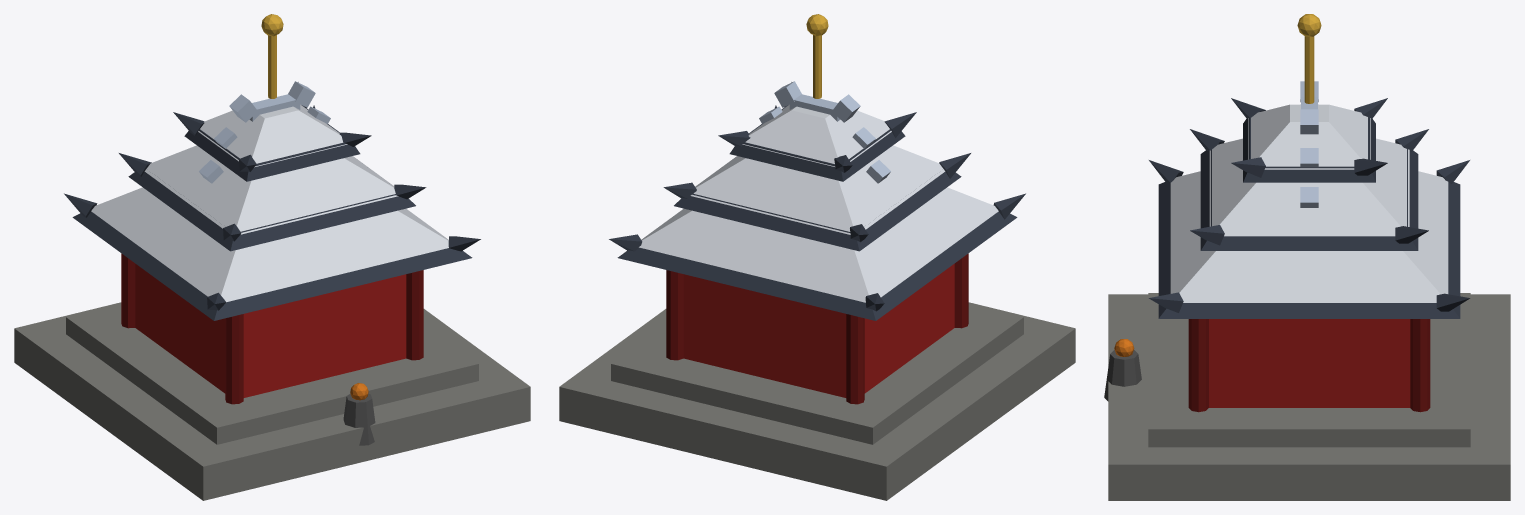
File: SM_GZ_temple_frost.fbx
3 views of the same model, side by side, from view 1: azimuth 30°, elevation 25°; view 2: azimuth 150°, elevation 25°; view 3: azimuth 270°, elevation 25° (orthographic). The views are drawn at different scales.
Parts seen in each view (by area): view 1: SM_GZ_temple_frost; view 2: SM_GZ_temple_frost; view 3: SM_GZ_temple_frost.
Boxes of the visible parts, left/top/right/bottom form: SM_GZ_temple_frost: left=14, top=14, right=530, bottom=500; SM_GZ_temple_frost: left=559, top=14, right=1075, bottom=500; SM_GZ_temple_frost: left=1104, top=14, right=1510, bottom=500.
Bounding box in the file's own units: 1000 × 1100 × 1010.
